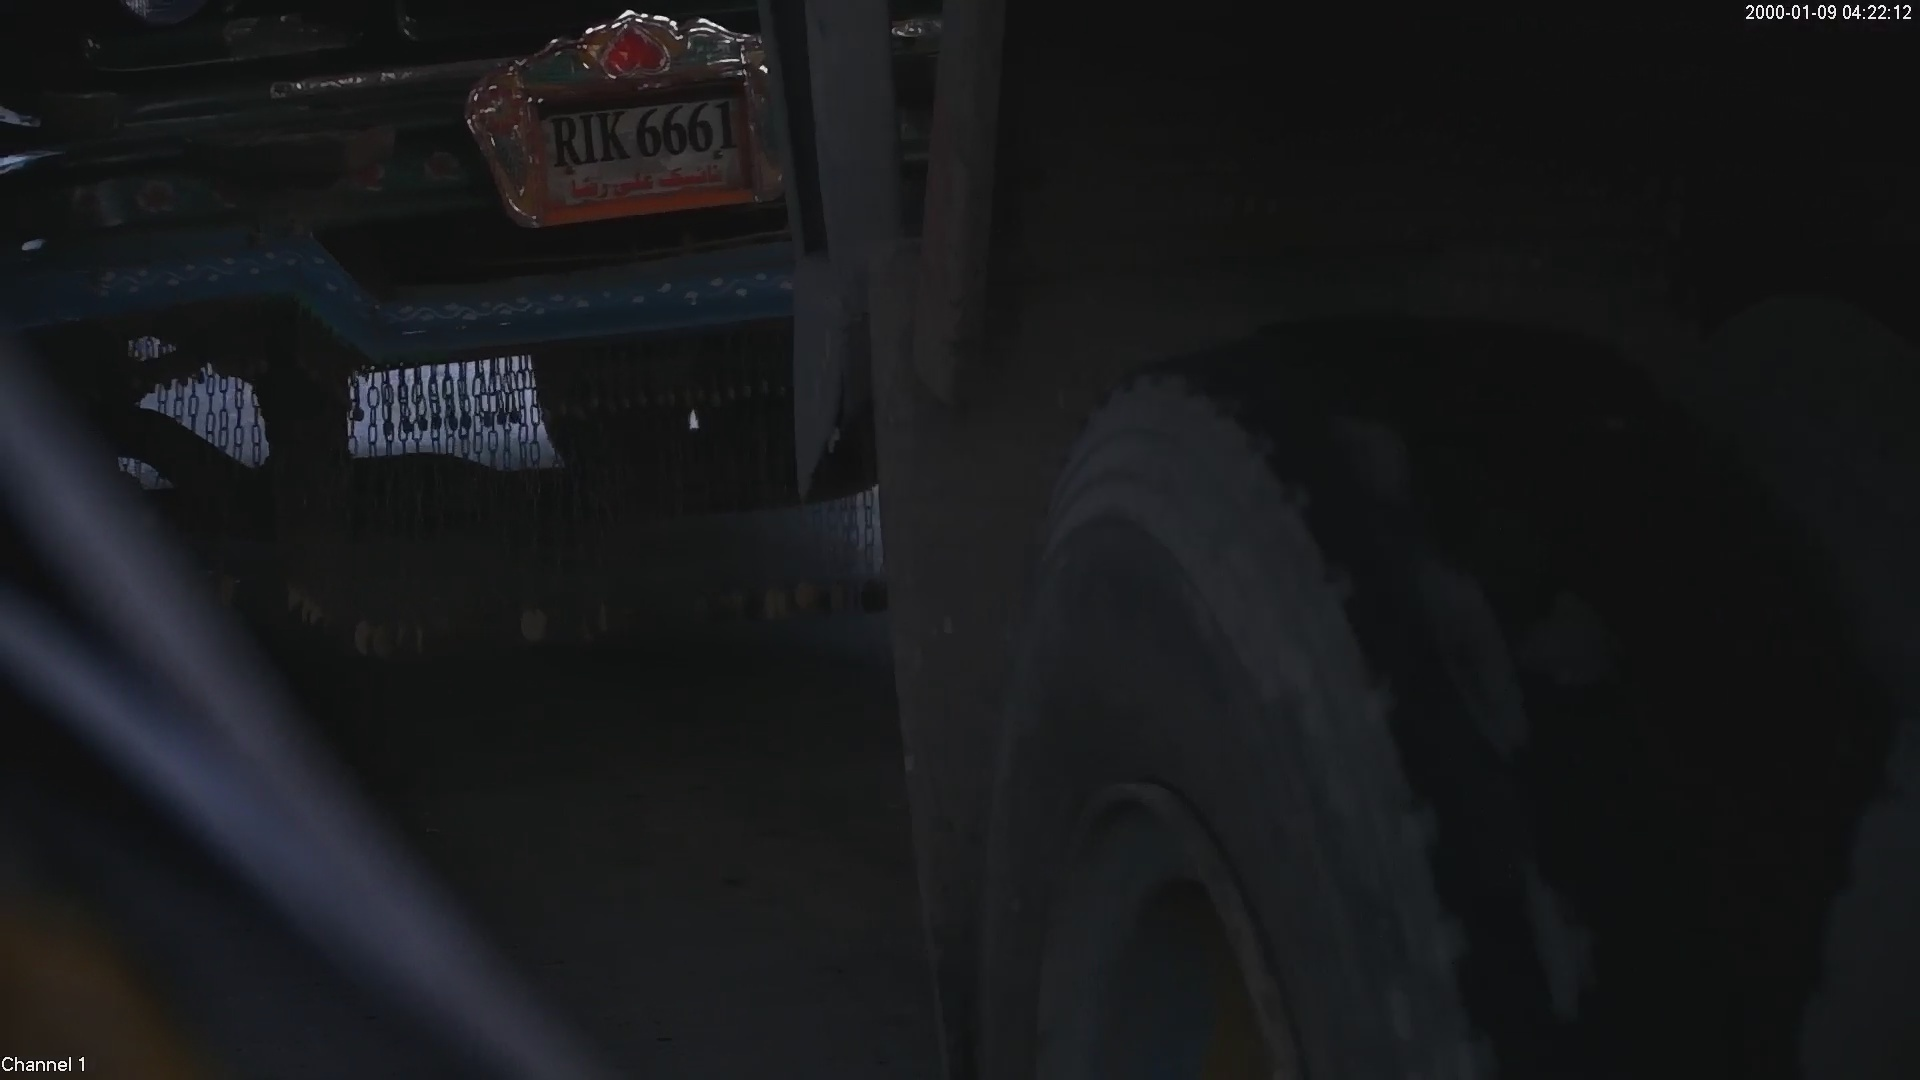Number_Plate: (513, 70, 763, 209)
